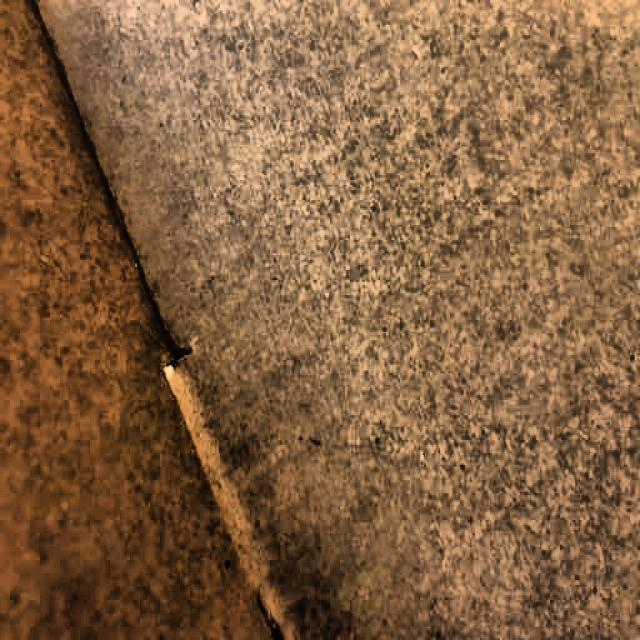cardboard: (2, 0, 638, 638)
